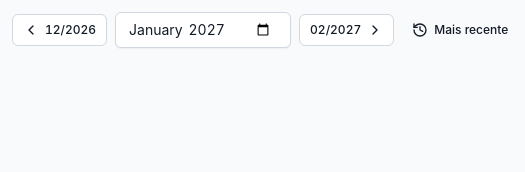
it: CompetenceNav › atravessa a virada de ano pelos botões e pelo seletor direto
Click the button named "Competência anterior: 12/2026". click: click(60, 30)
box: left=12, top=14, right=107, bottom=46
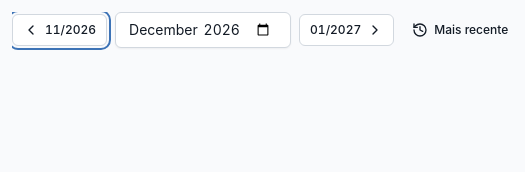
Click the button named "Próxima competência: 01/2027". click: click(347, 30)
box: left=299, top=14, right=394, bottom=46
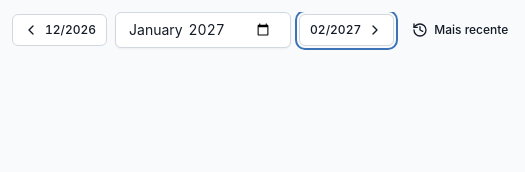
Replace the text in the field named "Selecionar competência" with "2025-12". click: (203, 30)
box: left=115, top=12, right=291, bottom=48
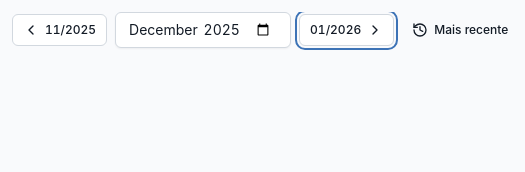
Check: the button named "Próxima competência: 01/2026" is enabled, box left=299, top=14, right=394, bottom=46
Check: the button named "Competência anterior: 11/2025" is shown, box left=12, top=14, right=107, bottom=46
